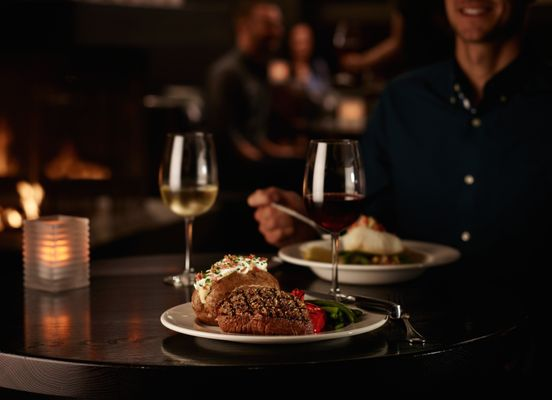sushi: (284, 236, 462, 288)
